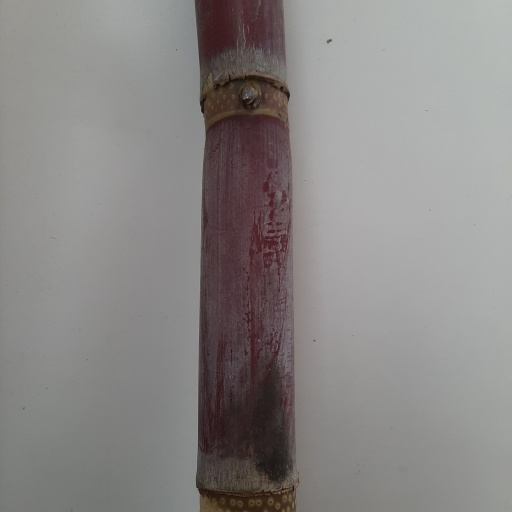Bud: (235, 80, 263, 112)
